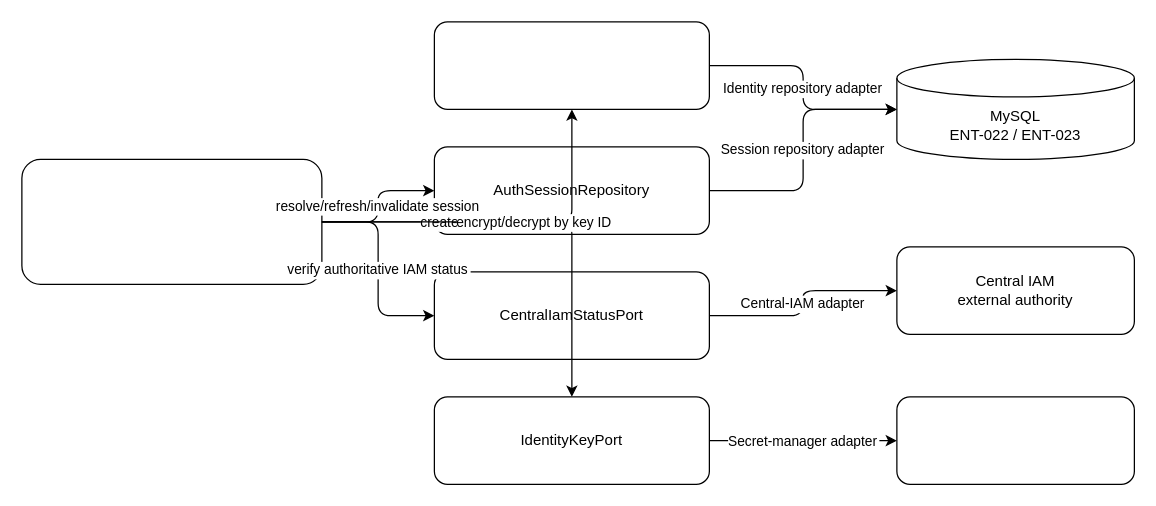
Some shapes in this 1156 by 506 pixel diagram are drawn without their labels. Each missing label, with the centre of its shape:
"Identity Adapter requireActor / requireCsrf / API-017–020" goes at (171,221).
"OidcLoginStateRepository" goes at (571,65).
"Secret Manager external key authority" goes at (1015,440).
